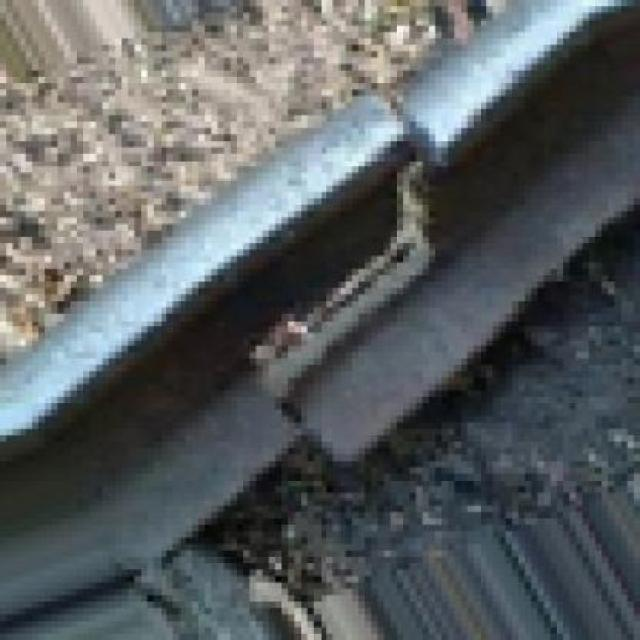defective: (164, 24, 544, 530)
